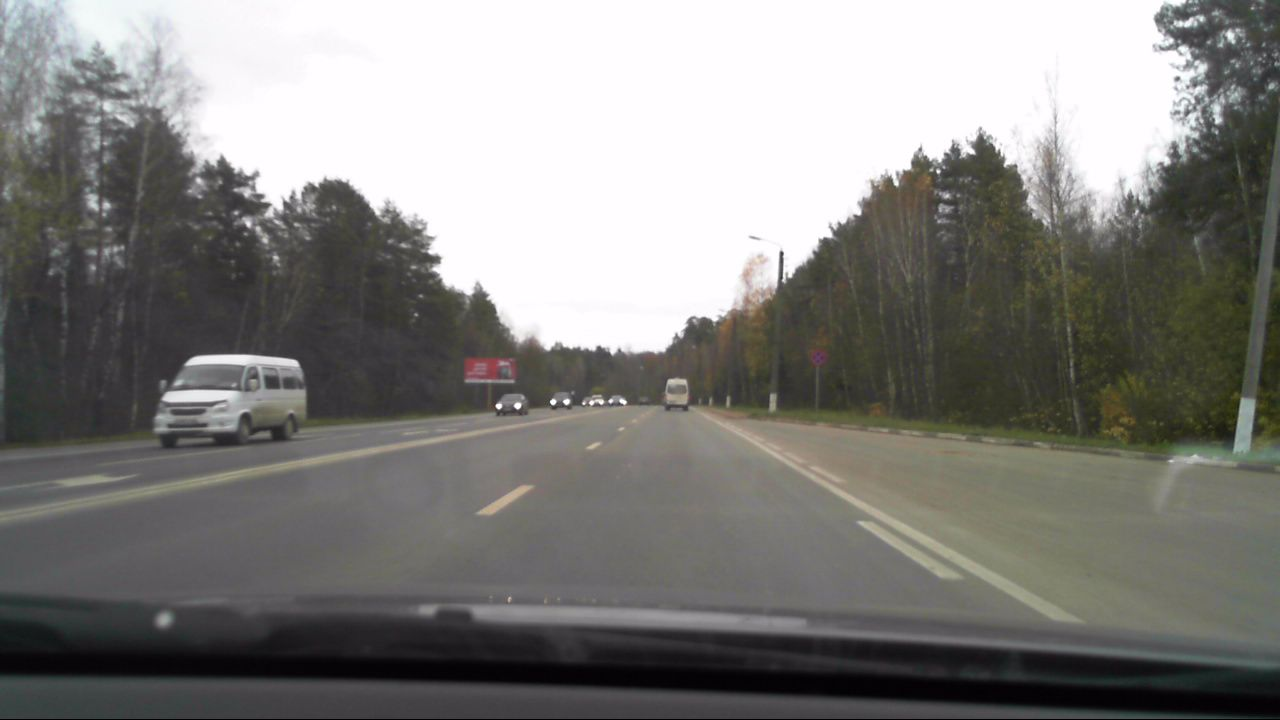No Parking: (809, 348, 826, 367)
